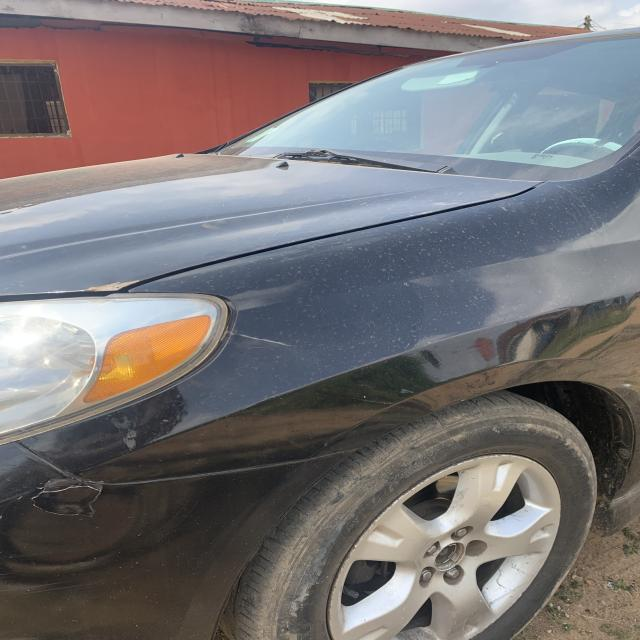paint-chip: (28, 473, 115, 502), (80, 278, 148, 298)
paint-trace: (222, 328, 304, 356)
